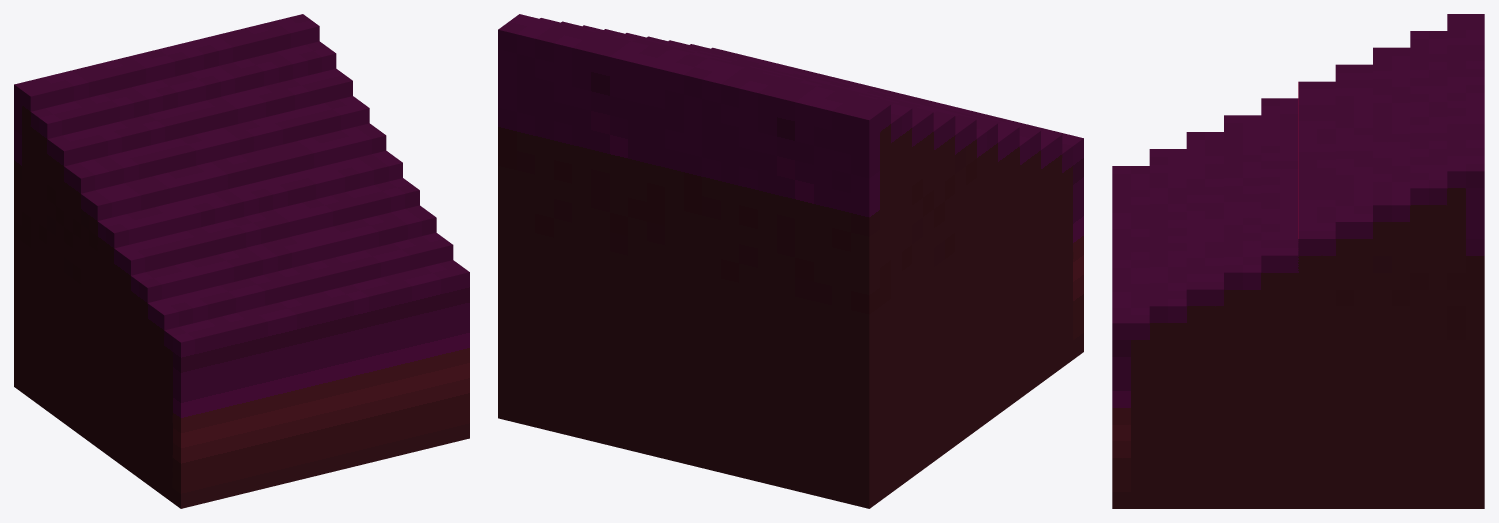
Rendered from half_ramp_full_middle.glb.
The picture shows the model from 3 angles, left to right: view 1: azimuth 30°, elevation 25°; view 2: azimuth 150°, elevation 25°; view 3: azimuth 270°, elevation 25°; orthographic projection. The views are drawn at different scales.
Parts seen in each view (by area): view 1: half_ramp_full_middle; view 2: half_ramp_full_middle; view 3: half_ramp_full_middle.
Boxes of the visible parts, x1,y1,x2,y2 form: half_ramp_full_middle: (14,14,469,508); half_ramp_full_middle: (498,14,1083,508); half_ramp_full_middle: (1112,14,1484,508).
Bounding box in the file's own units: 2 × 2 × 2.
Materials: 1 (1 with a texture image).
